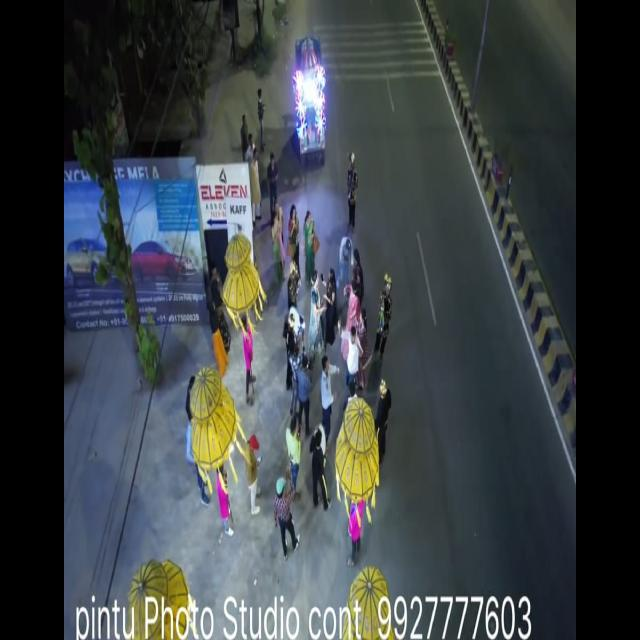humans: (271, 463, 301, 567), (308, 423, 333, 515), (320, 352, 338, 458), (209, 274, 234, 349), (215, 464, 238, 544), (338, 314, 360, 396), (208, 300, 230, 379), (286, 415, 304, 510), (308, 268, 326, 358), (246, 434, 264, 522), (375, 271, 392, 363), (375, 376, 392, 467), (240, 316, 256, 410), (296, 355, 314, 438), (319, 267, 337, 346), (342, 279, 359, 362), (356, 310, 372, 392), (248, 148, 262, 227), (270, 210, 286, 279), (346, 150, 359, 234), (282, 314, 296, 387), (256, 84, 270, 154), (288, 345, 300, 418), (288, 203, 302, 263), (266, 152, 280, 212), (337, 234, 352, 289), (303, 209, 314, 278), (350, 248, 364, 300), (286, 260, 300, 305), (296, 312, 306, 360), (240, 112, 248, 163), (246, 132, 254, 164)
